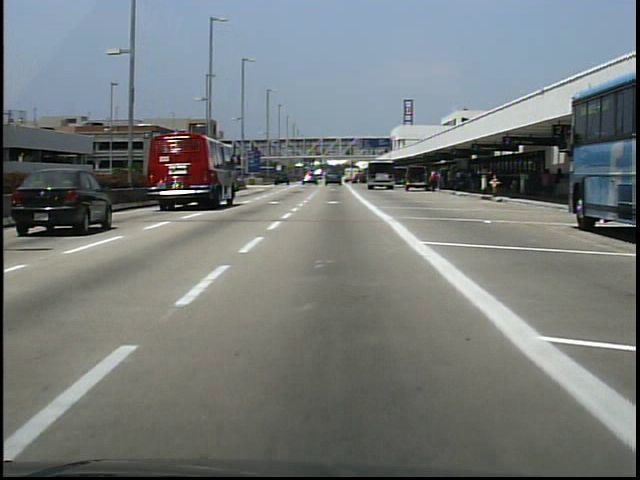person: (432, 173, 441, 197)
